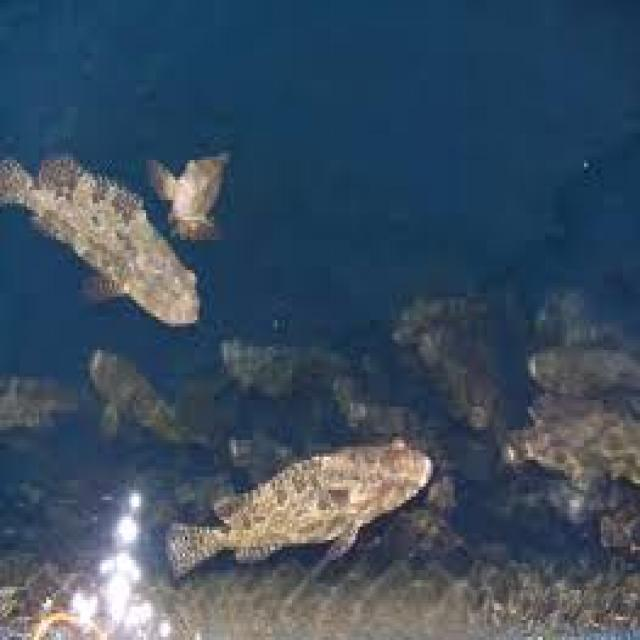grouper: (162, 431, 438, 586), (2, 145, 201, 338), (84, 344, 216, 459), (214, 330, 367, 400), (145, 139, 243, 244)
